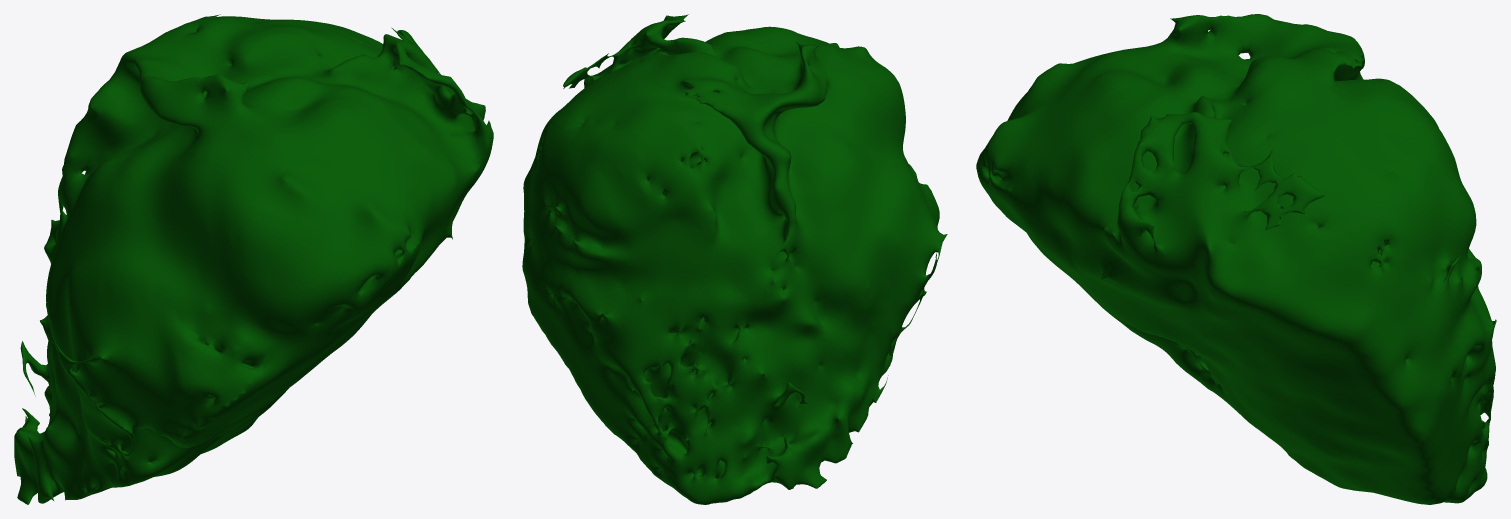
The model's file is Lesion.obj.
The picture shows the model from 3 angles, left to right: view 1: azimuth 30°, elevation 25°; view 2: azimuth 150°, elevation 25°; view 3: azimuth 270°, elevation 25°; orthographic projection. The views are drawn at different scales.
Parts seen in each view (by area): view 1: grp1; view 2: grp1; view 3: grp1.
Boxes of the visible parts, bbox=[...] form: grp1: bbox=[14, 14, 493, 504]; grp1: bbox=[522, 14, 947, 504]; grp1: bbox=[976, 14, 1496, 504].
Size of the model in its own units: 67.54 by 67.89 by 67.4.
